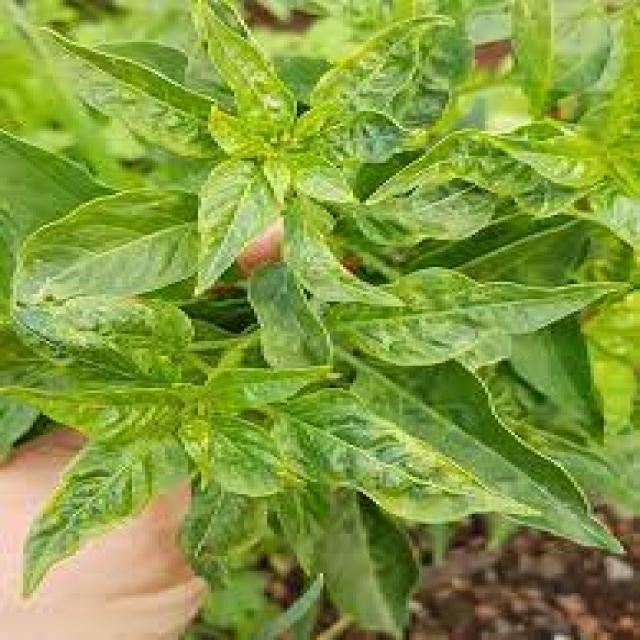Nutirtion_deficie: (259, 388, 546, 533), (37, 402, 222, 606), (330, 272, 640, 363), (44, 30, 223, 165), (6, 281, 208, 390), (193, 146, 289, 293)
